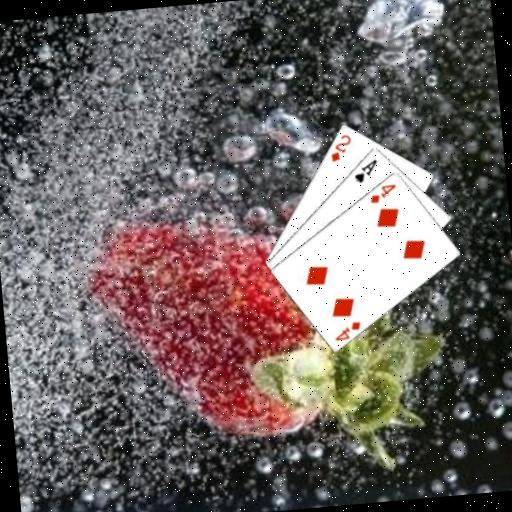2D: (326, 131, 354, 164)
4D: (331, 318, 365, 344), (366, 180, 399, 205)
AS: (350, 156, 381, 185)
